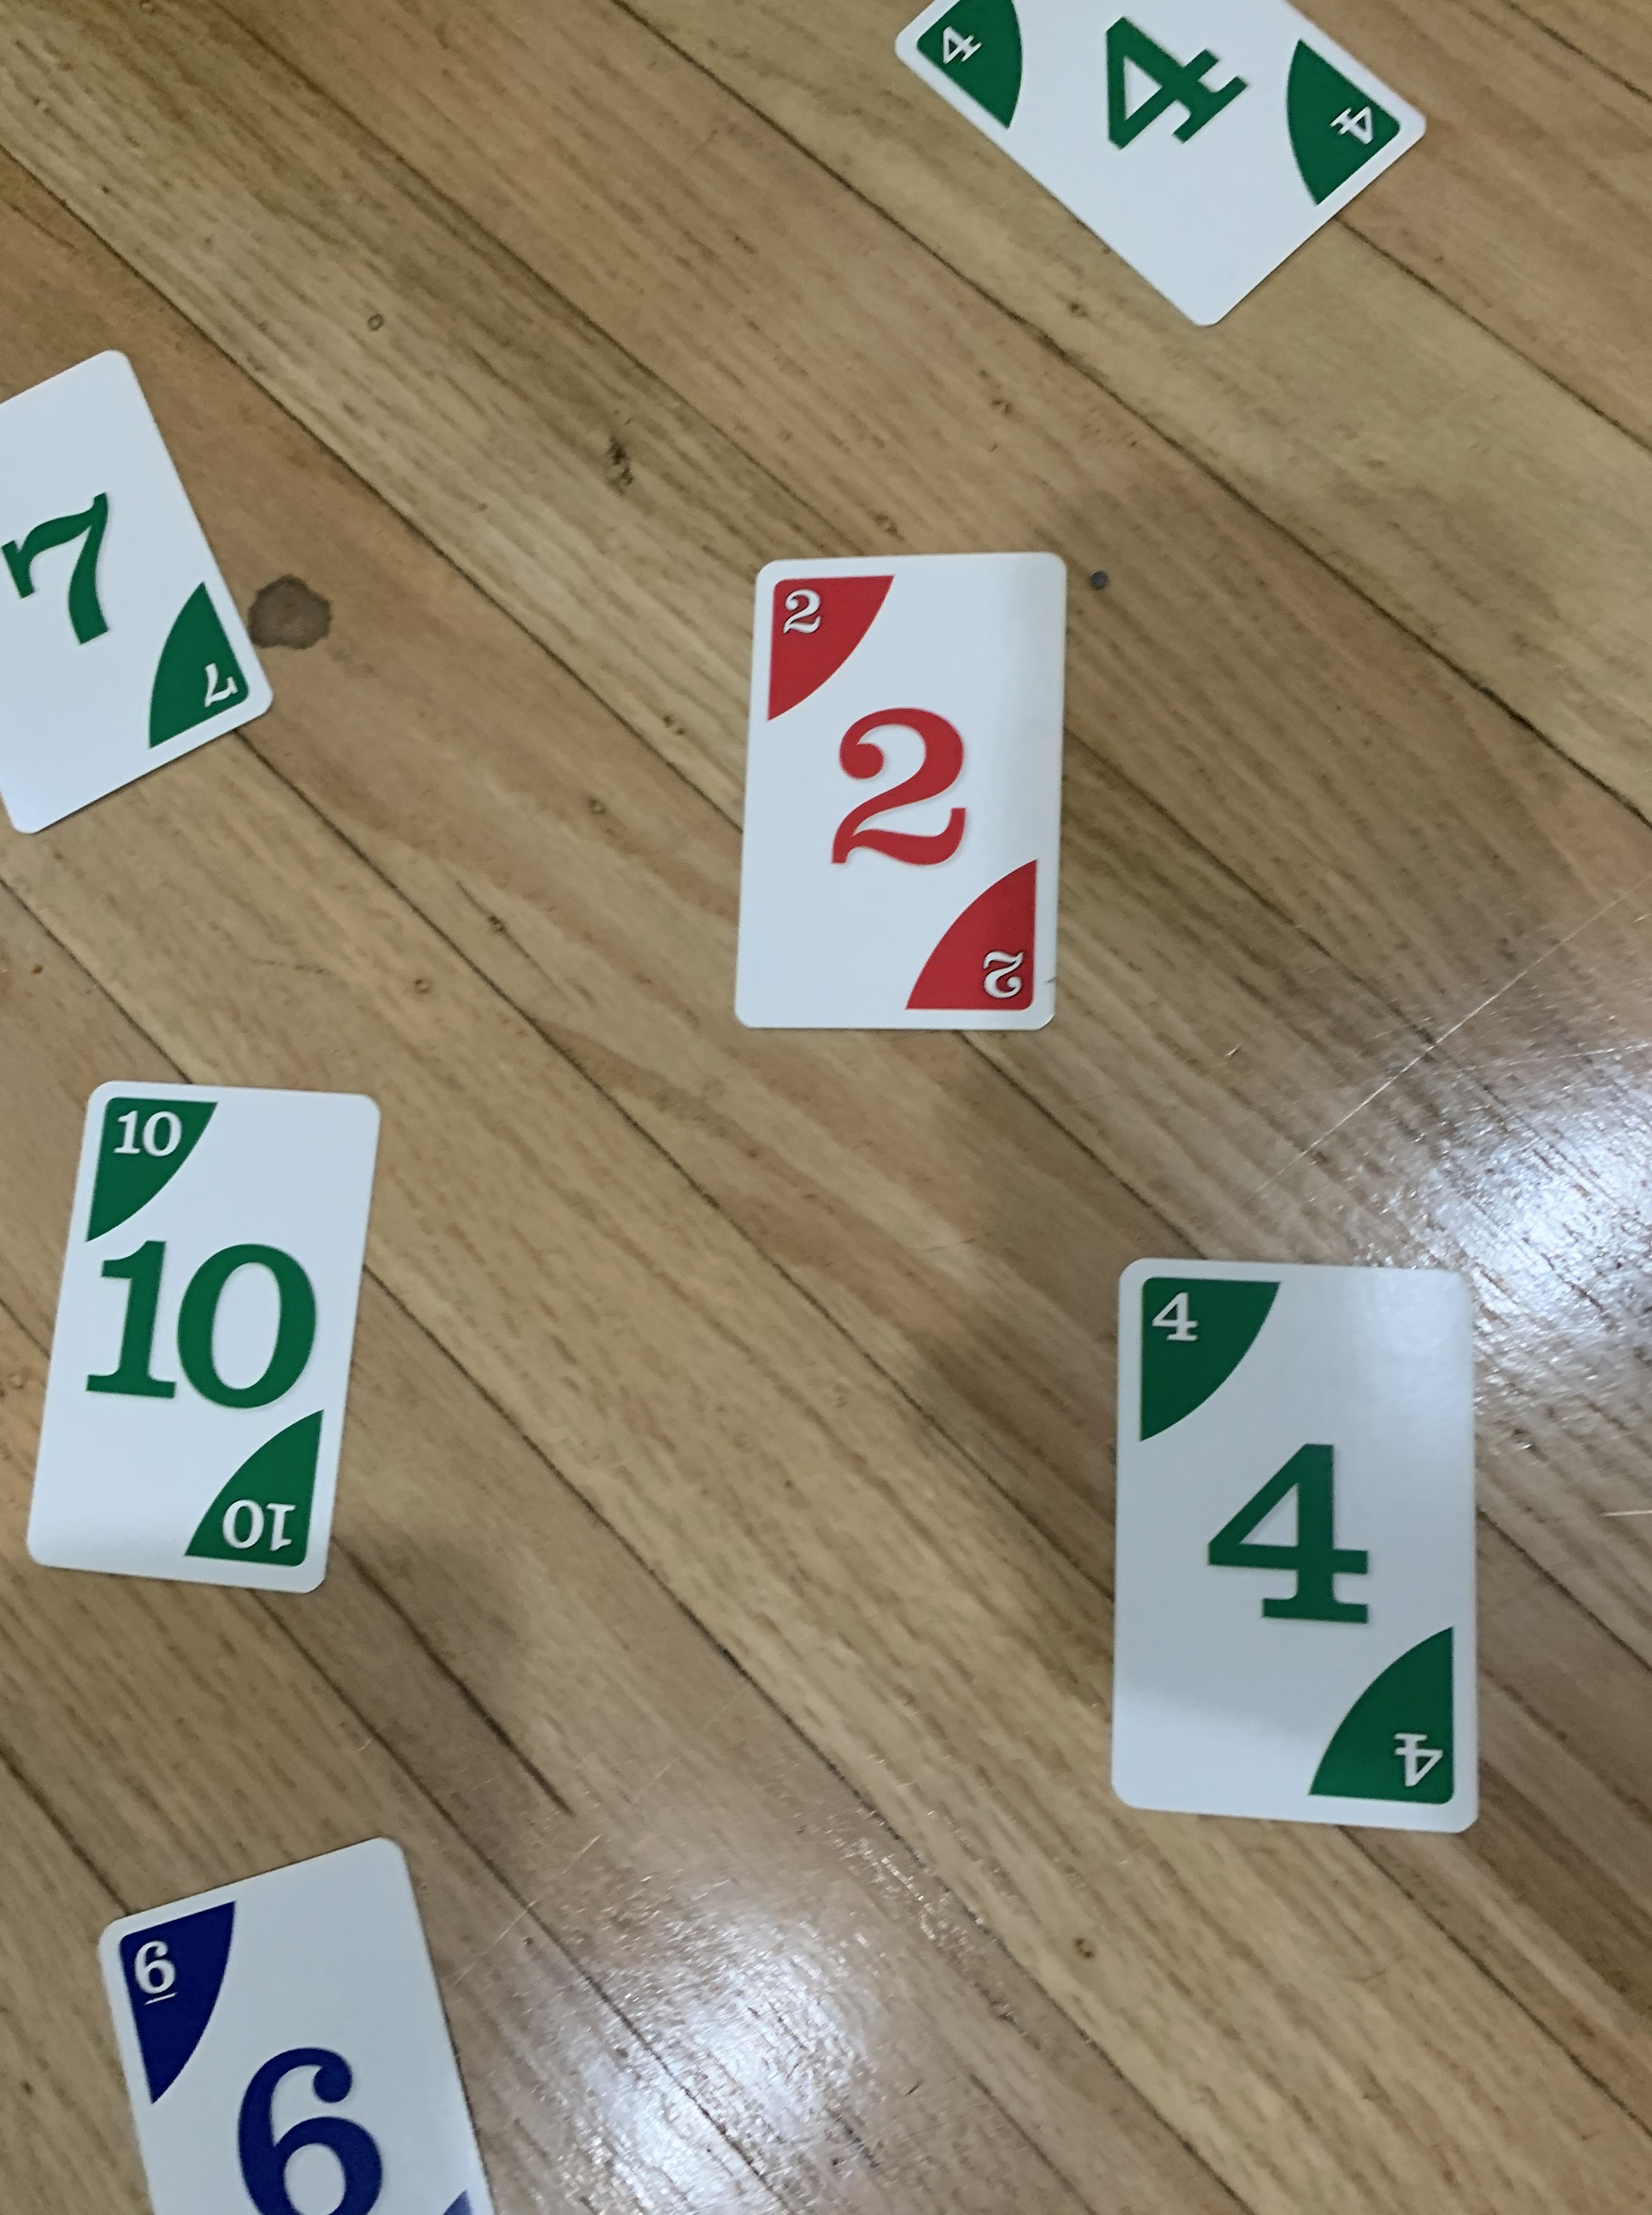four: (1086, 1243, 1499, 1849), (890, 0, 1445, 344)
seven: (0, 354, 293, 849)
six: (71, 1826, 526, 2215)
ten: (14, 1068, 392, 1614)
two: (722, 542, 1086, 1054)
